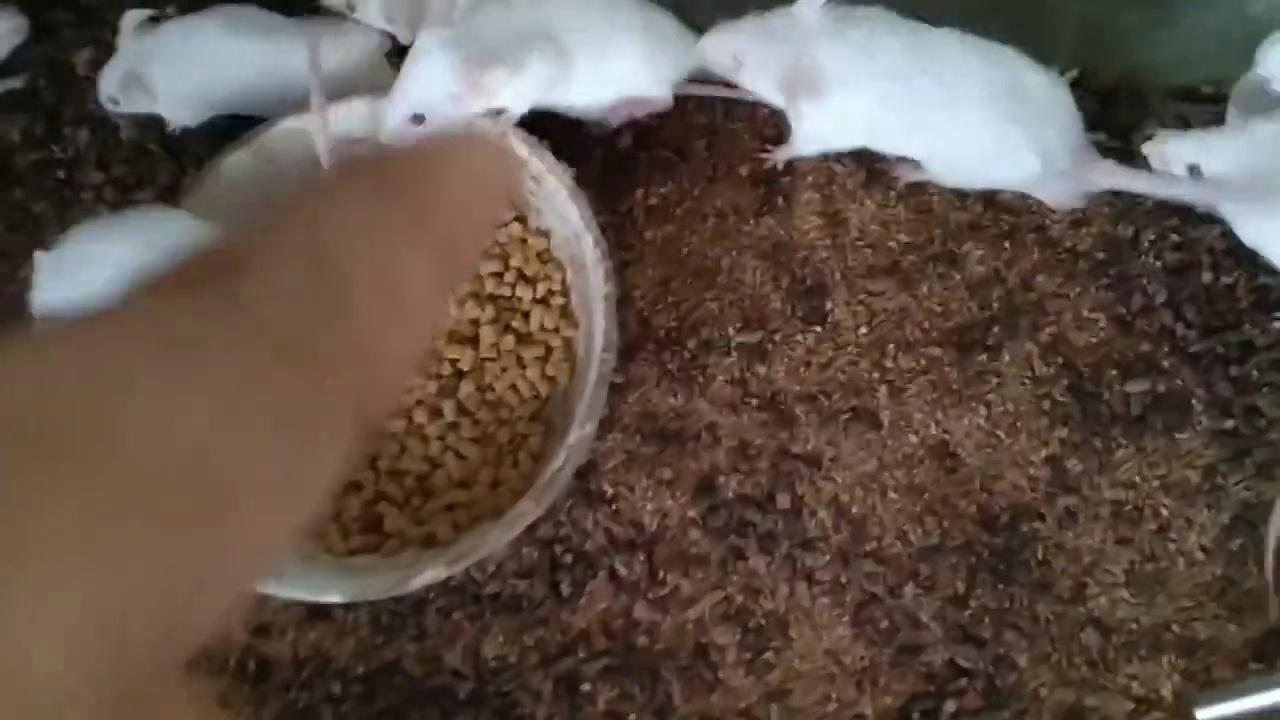rat: (700, 0, 1280, 211), (382, 0, 700, 151), (98, 5, 388, 134), (1144, 111, 1280, 277)
